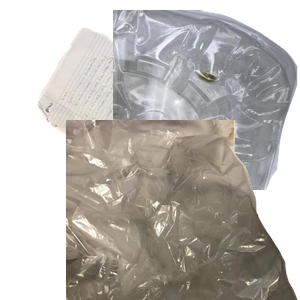glass: (91, 142, 260, 300)
paper: (35, 25, 232, 204)
plastic: (113, 10, 300, 190)
trash: (66, 120, 300, 300)
